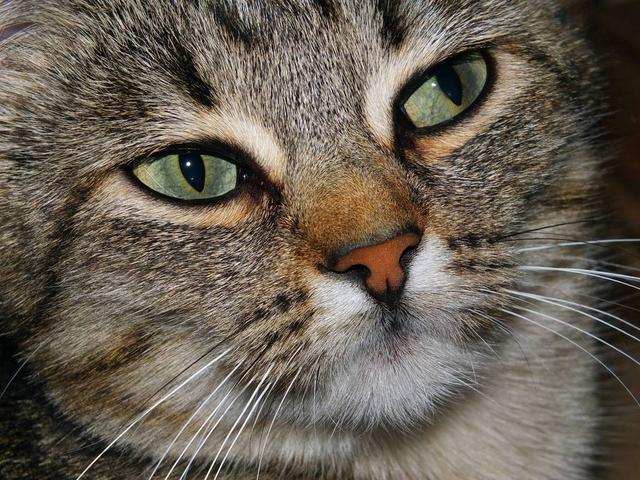cat: (8, 6, 640, 448)
